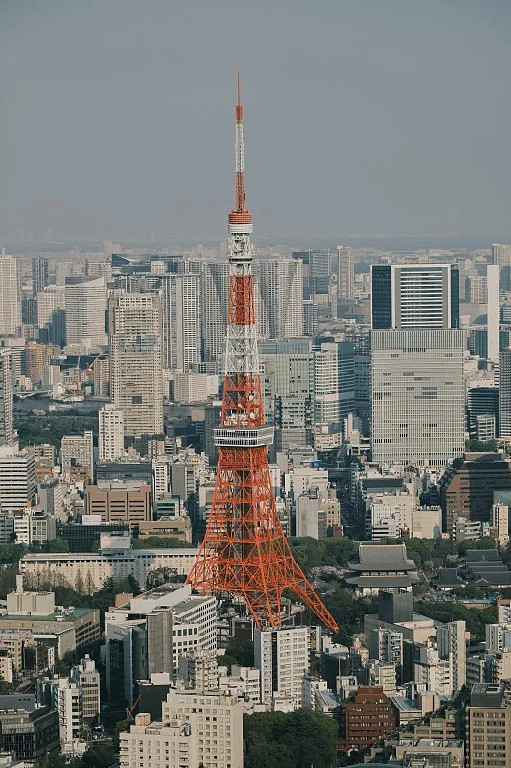Tokyo: (181, 61, 338, 634)
